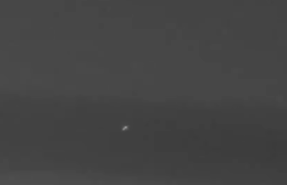Target: (123, 126, 127, 129)
